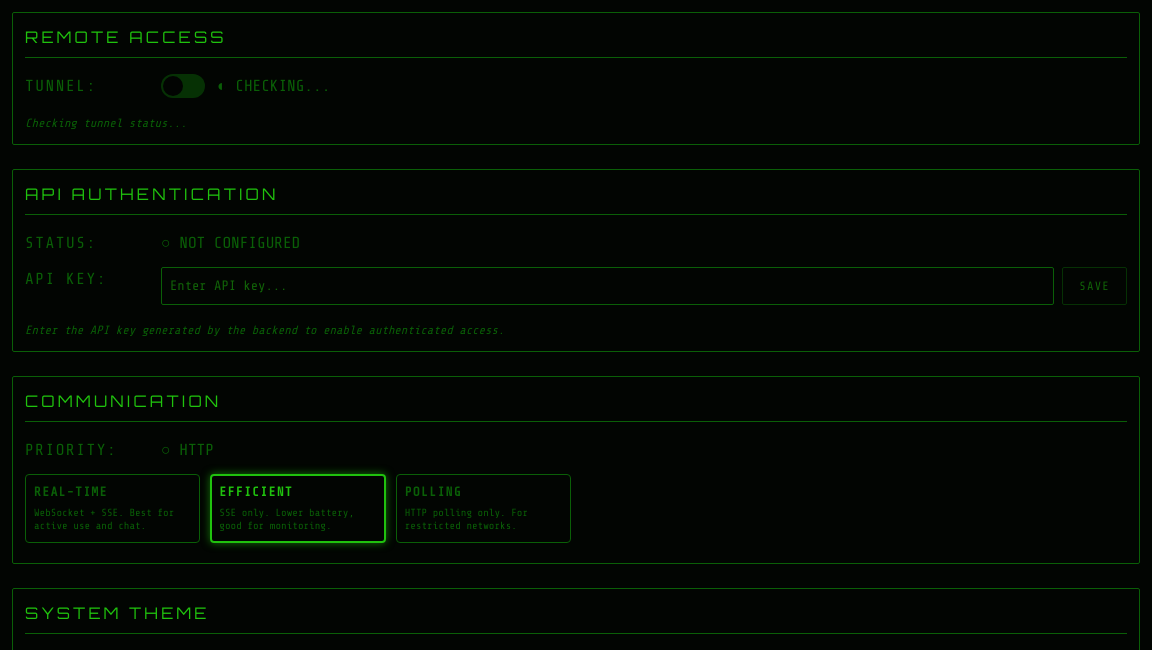
Test case: Communication Settings › priority selection › should switch back to real-time when clicked
Click the text "REAL-TIME". click: (71, 493)
box: [34, 483, 108, 503]
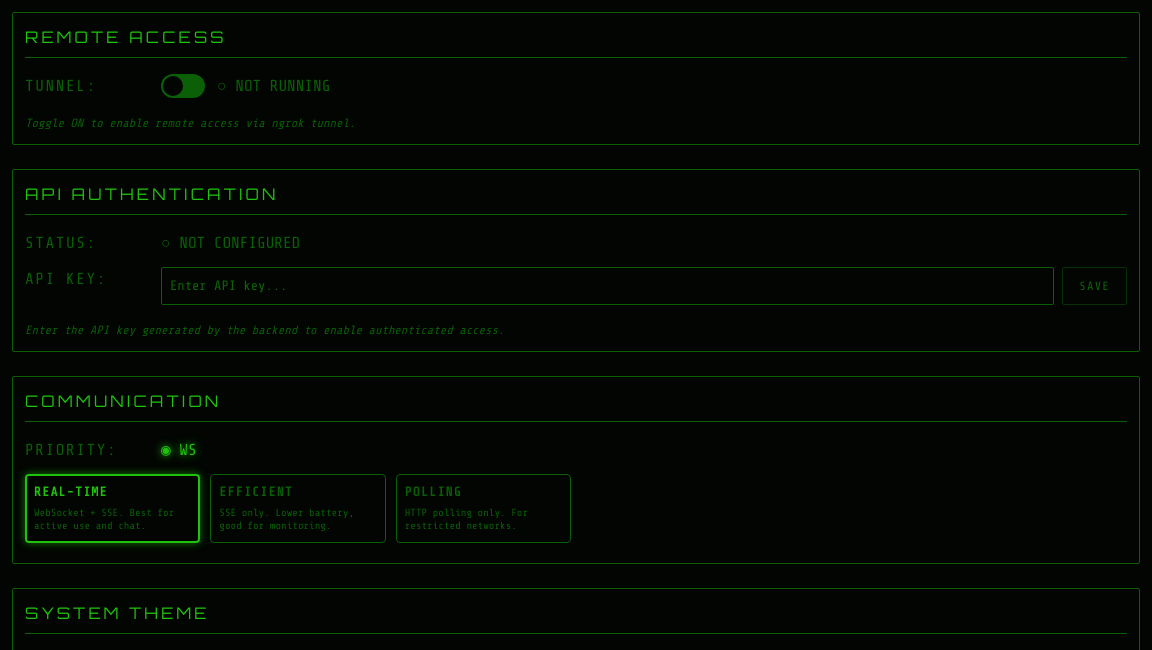
Now the text "◉ WS" is shown, box [161, 438, 197, 462]
